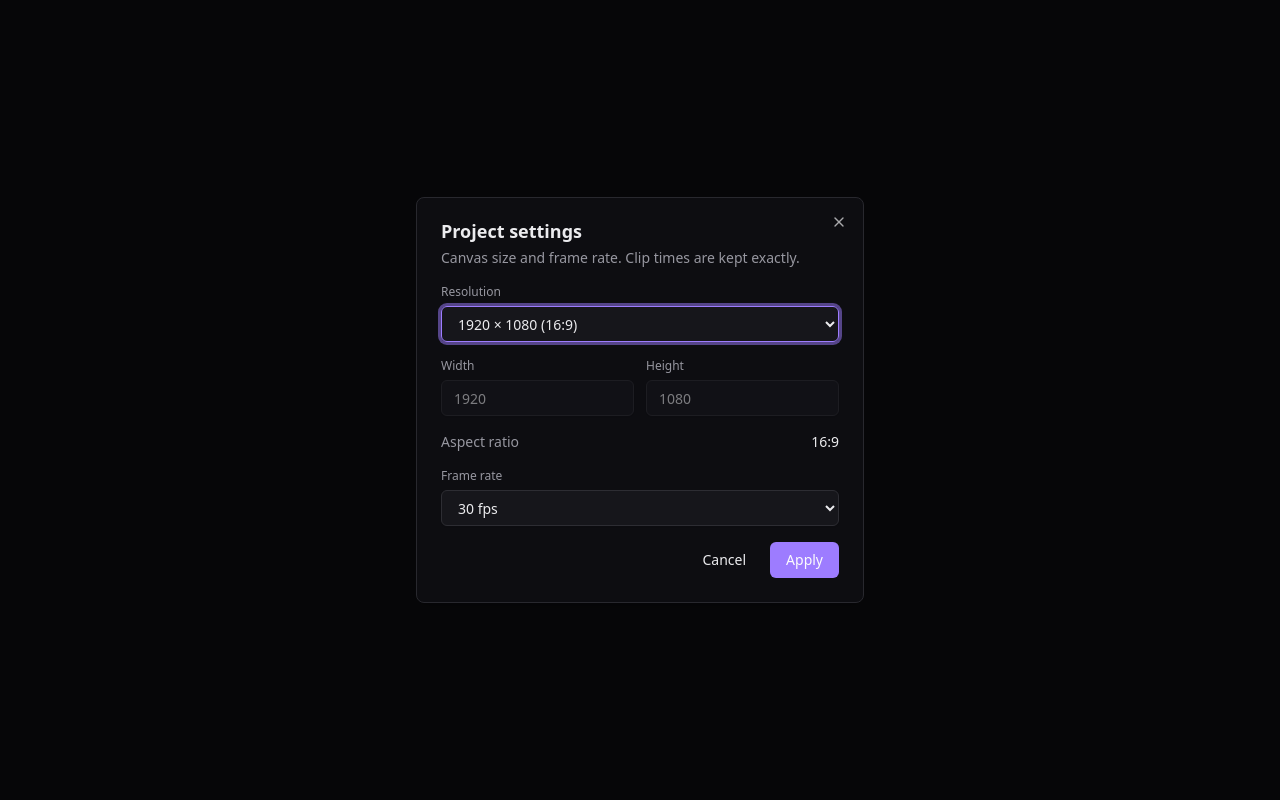
ProjectSettingsDialog › blocks Apply for an odd custom size
The image size is (1280, 800).
Select "Custom" in the dropdown labelled "Resolution": (640, 324) [441, 306, 839, 342]
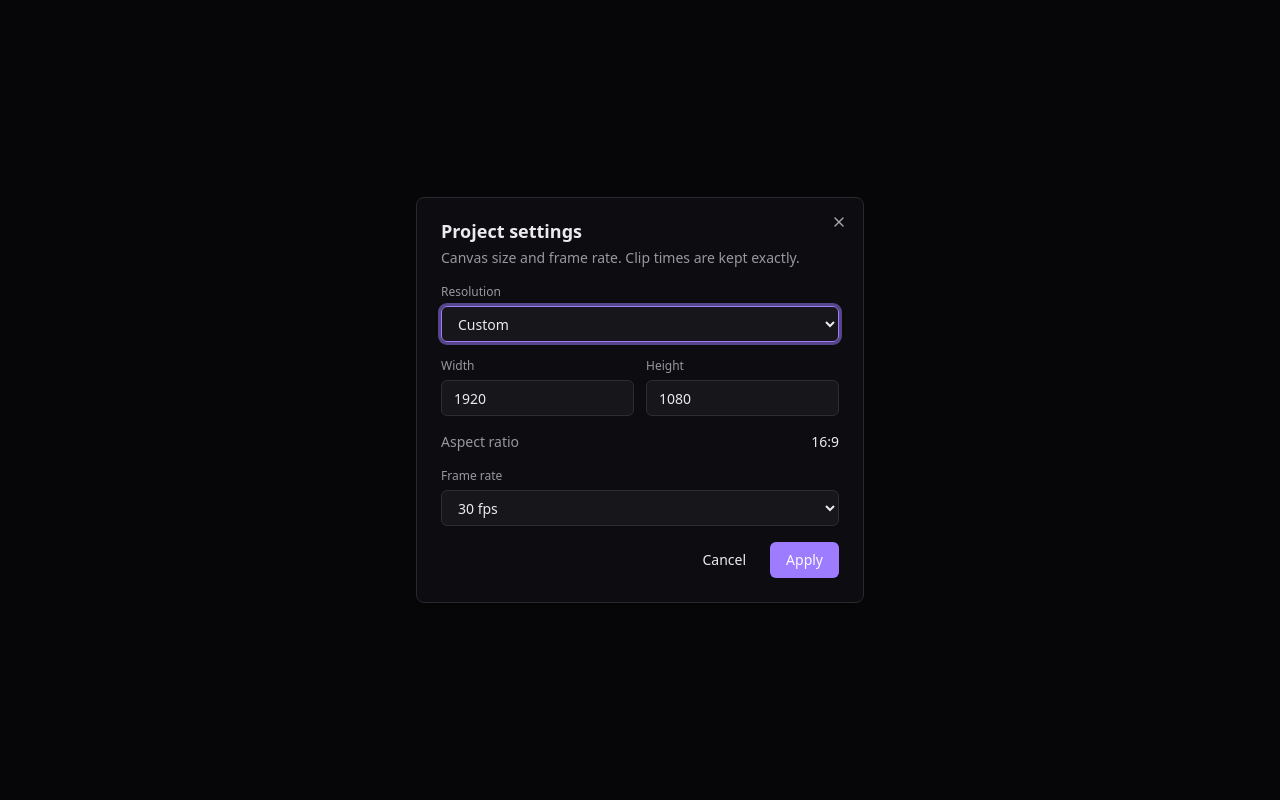
Replace the text in the number field labelled "Width" with "1921": (538, 398) [441, 380, 634, 416]
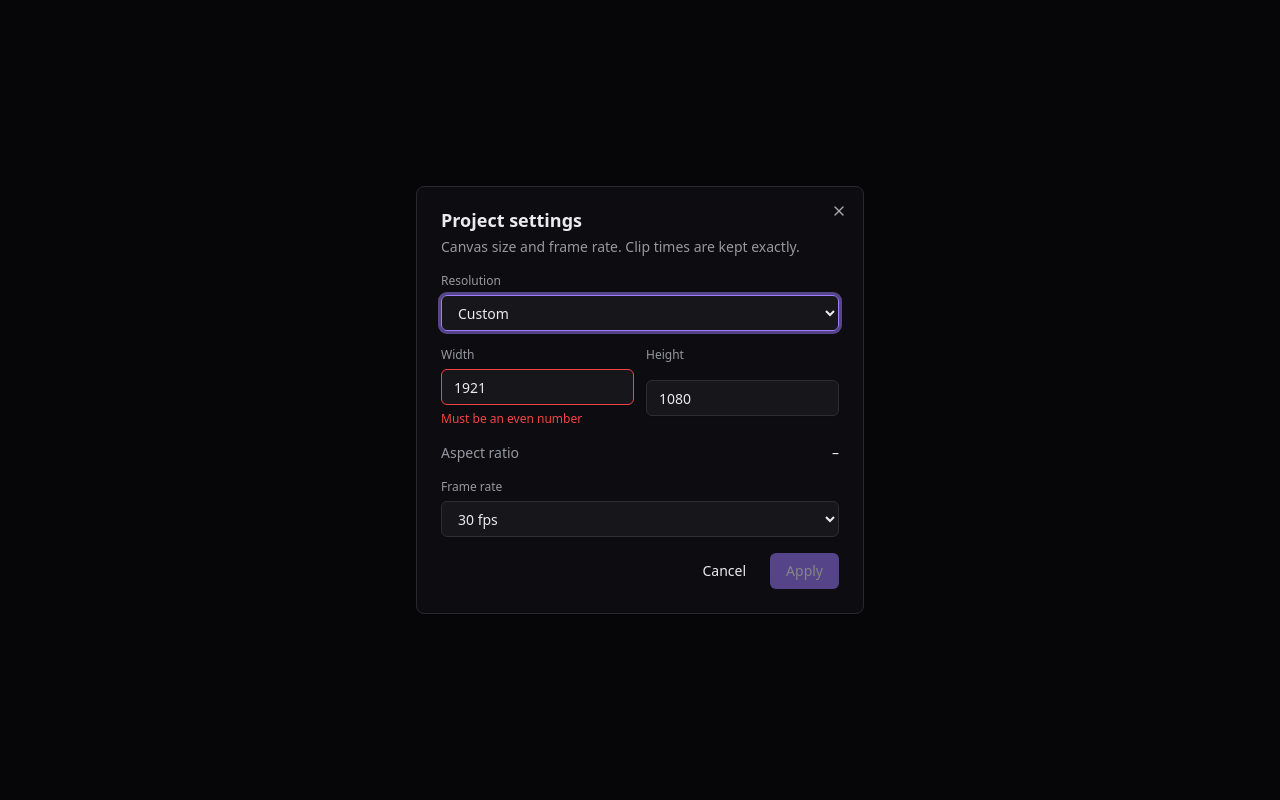
Check: the text "Must be an even number" is shown, box [441, 410, 582, 427]
Check: the button "Apply" is disabled, box [770, 553, 839, 589]
